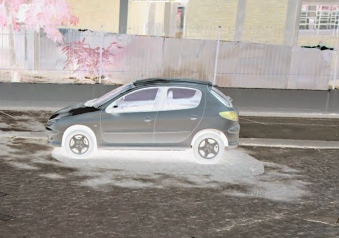car: (44, 73, 244, 169)
